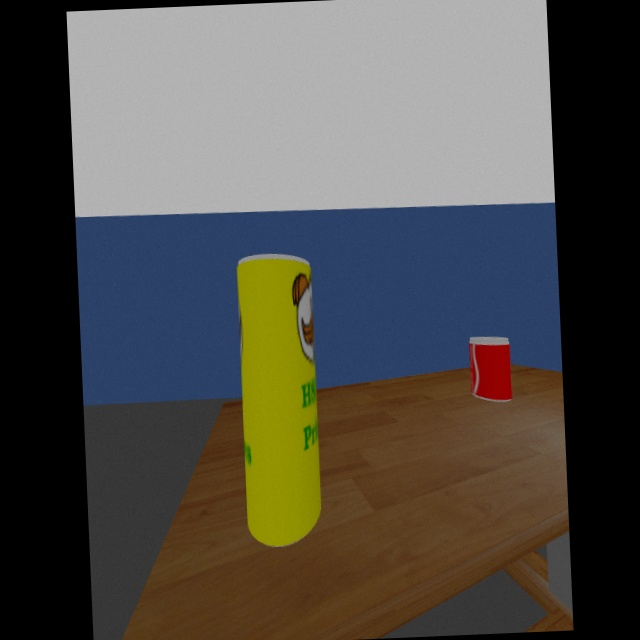chipsdose_gelb: (237, 253, 322, 549)
